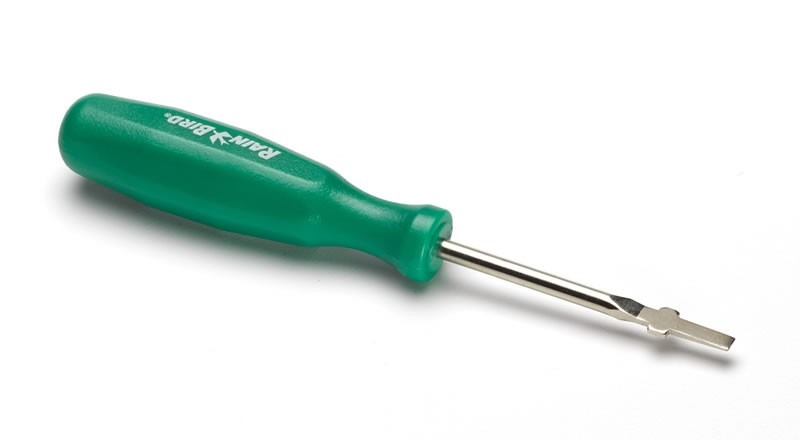screwdriver: (53, 89, 738, 357)
